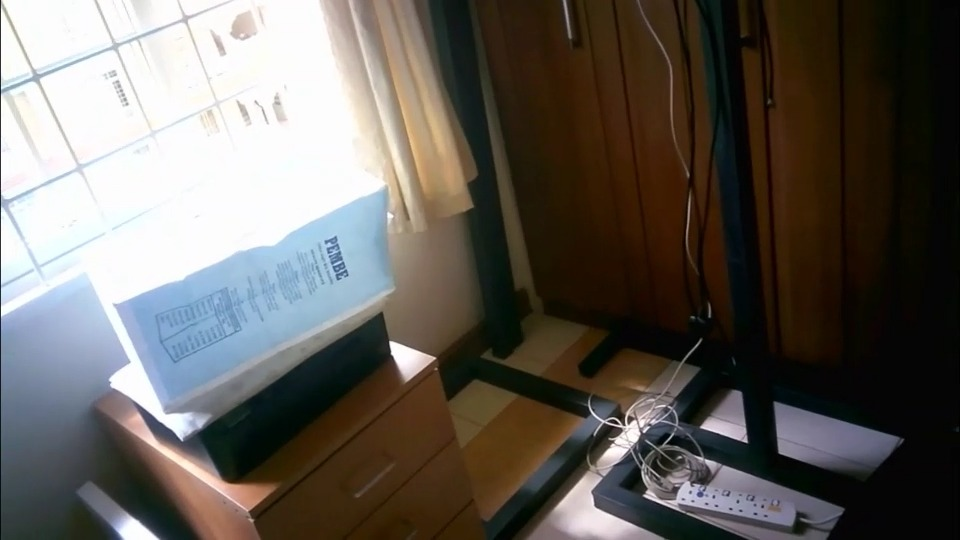wheat_flour_blue_label: (89, 167, 418, 407)
